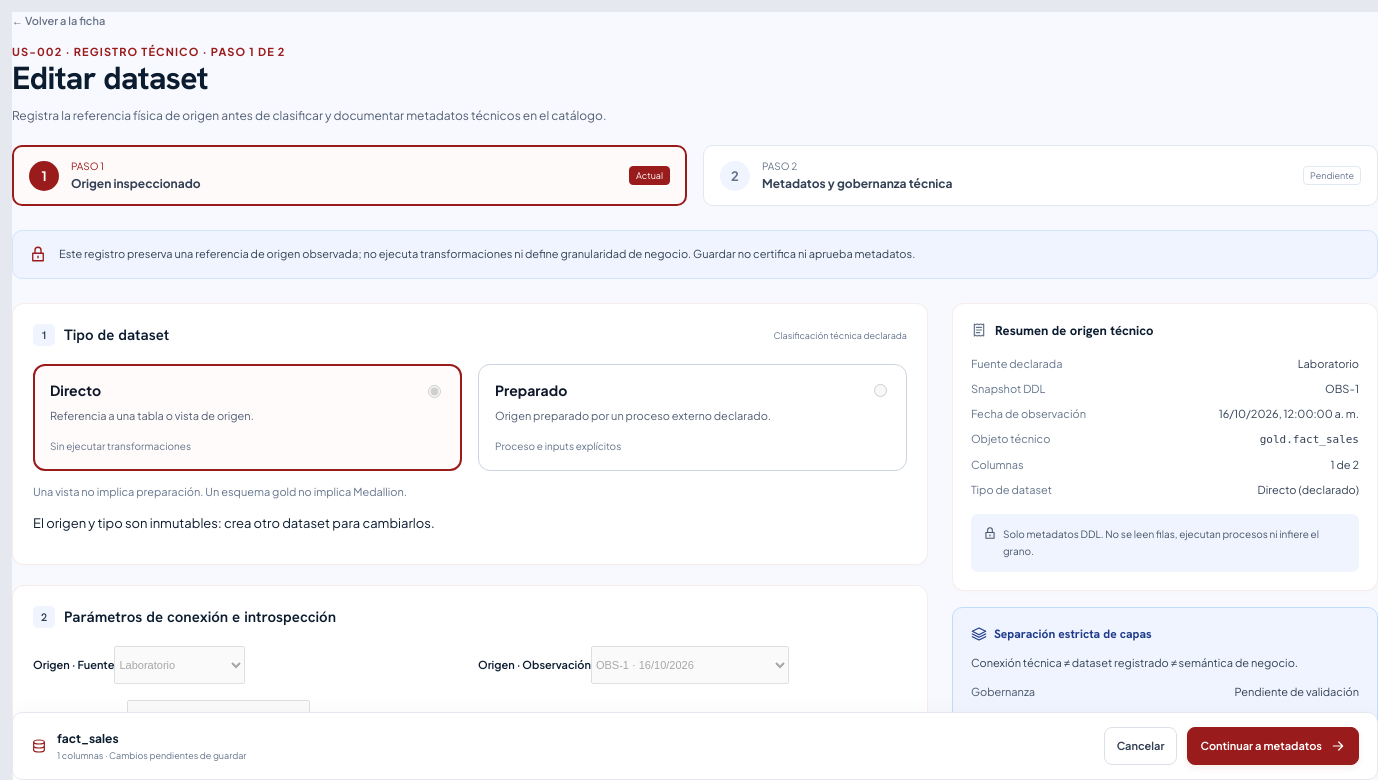
Scenario: locks edit origin/type and preserves local edits on 412
This screenshot has width=1378, height=780.
Expected: the radio button labelled "Directo" is disabled, x1=428 y1=385 x2=441 y2=398
Expected: the radio button labelled "Preparado" is disabled, x1=874 y1=384 x2=887 y2=397
Step 1. Click the button "Continuar a metadatos" → (1273, 746), box x1=1188 y1=727 x2=1359 y2=765
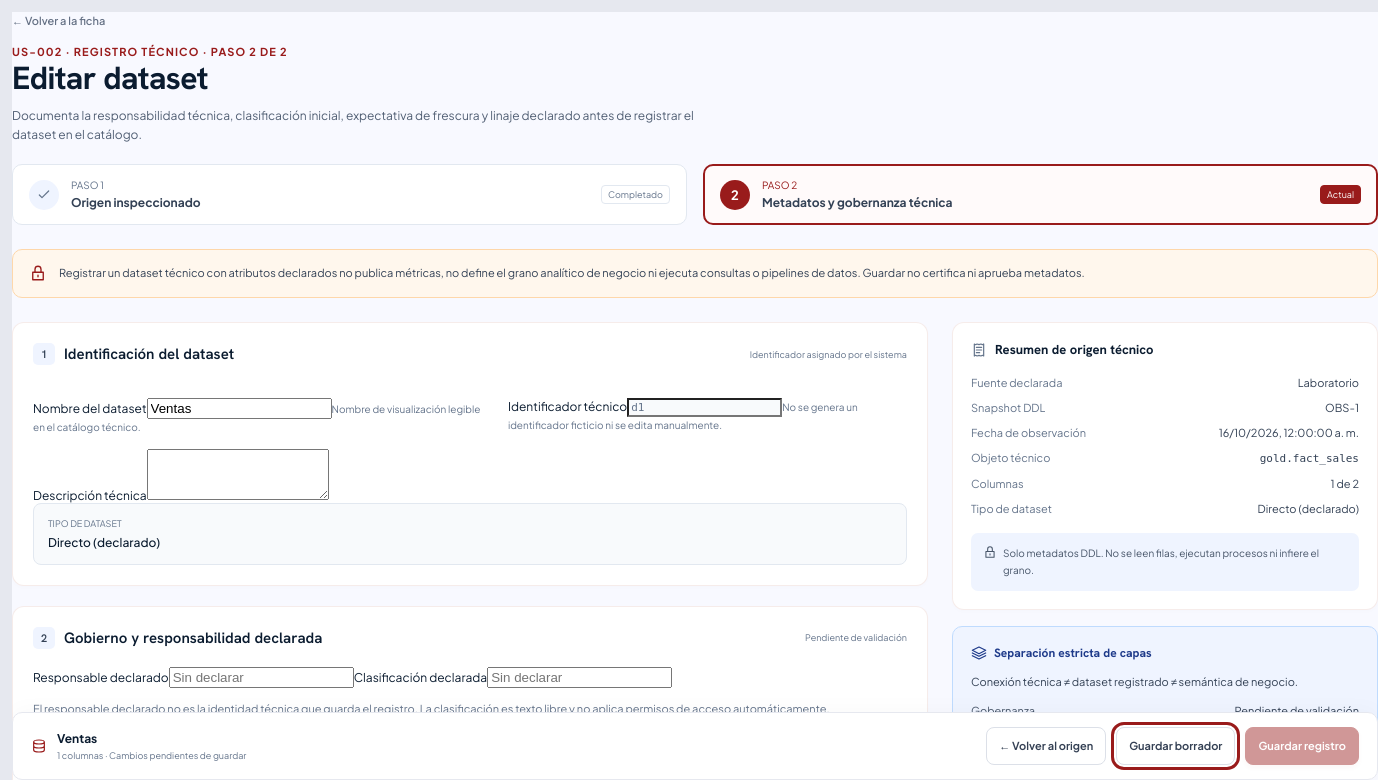
Step 2. Type " local" into the field labelled "Nombre del dataset" → (239, 408), box x1=146 y1=398 x2=332 y2=419
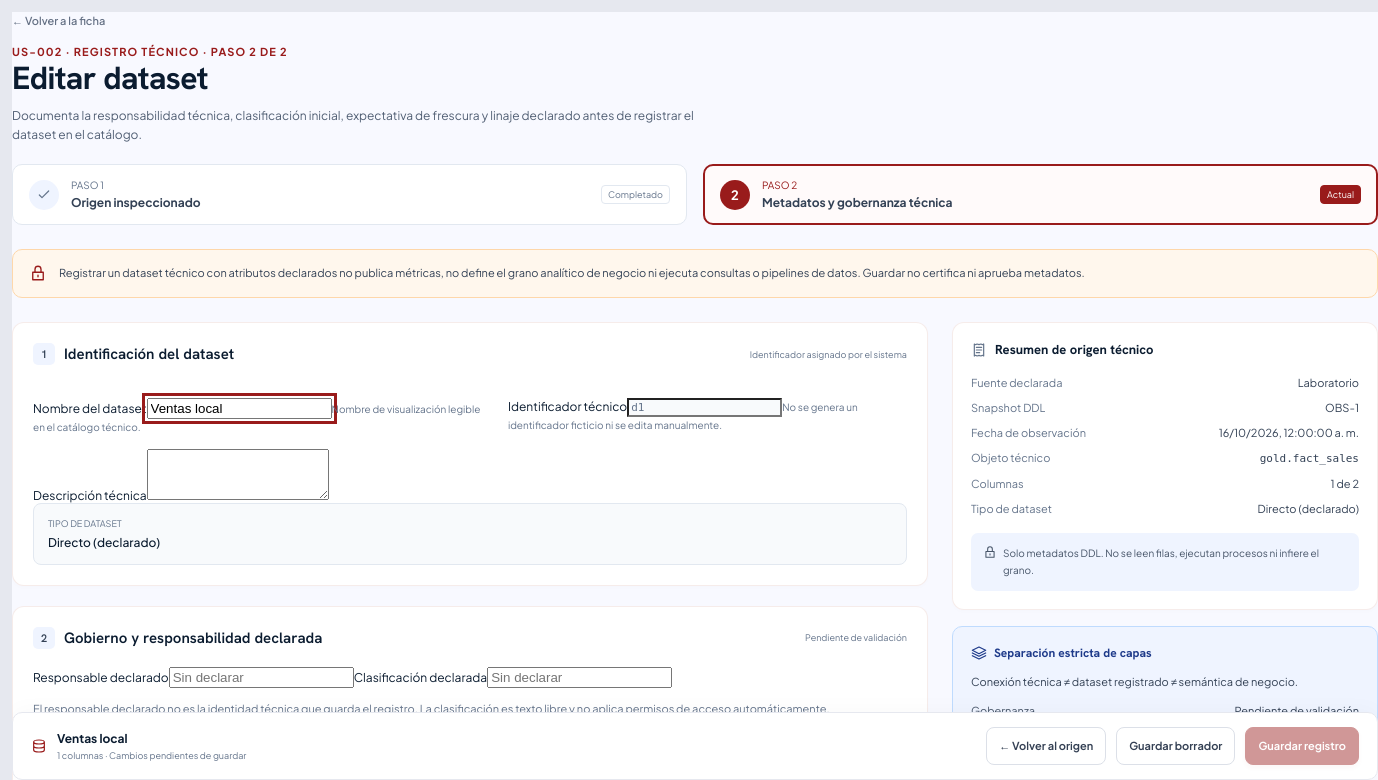
Step 3. Click the button "Guardar borrador" → (1176, 746), box x1=1116 y1=727 x2=1235 y2=765
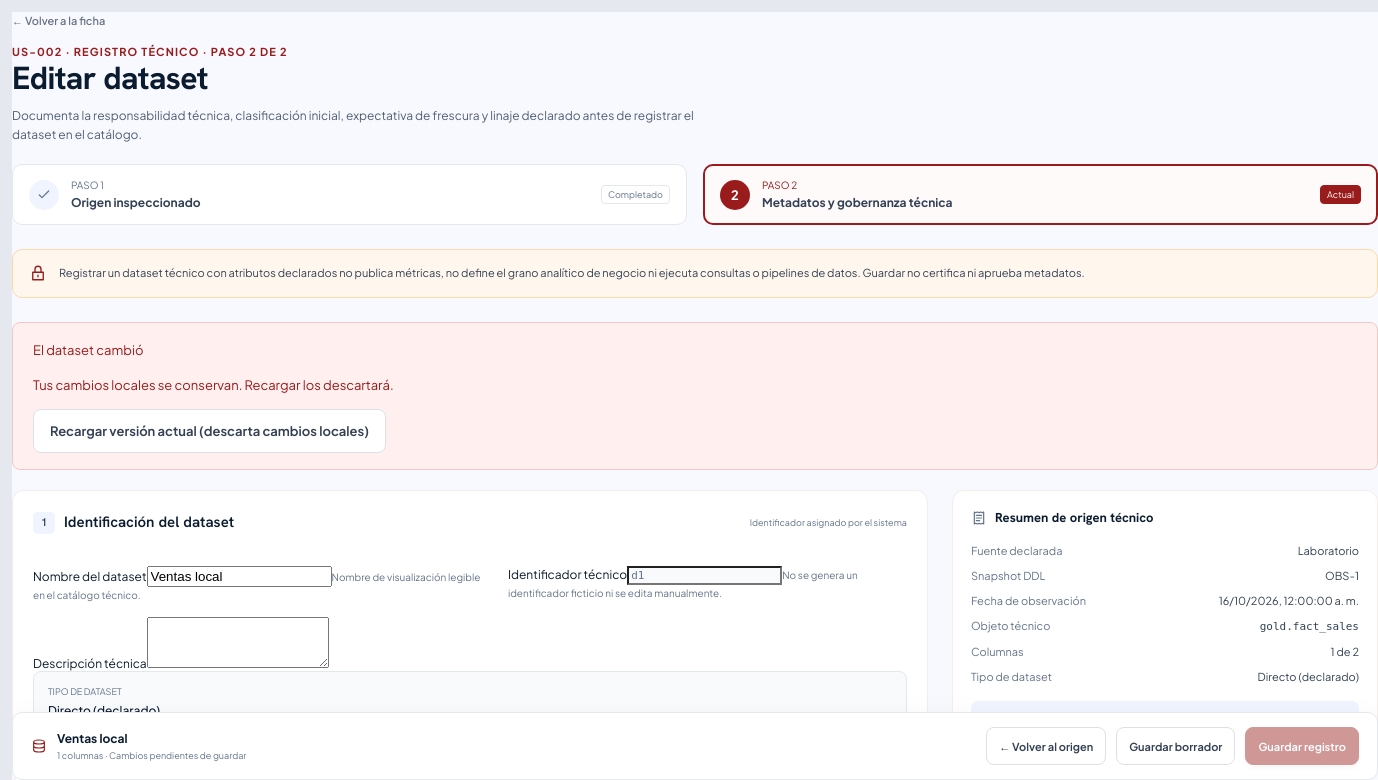
Expected: the field labelled "Nombre del dataset" holds "Ventas local", x1=146 y1=566 x2=332 y2=587
Expected: the button "Recargar versión actual (descarta cambios locales)" is shown, x1=33 y1=409 x2=386 y2=453
